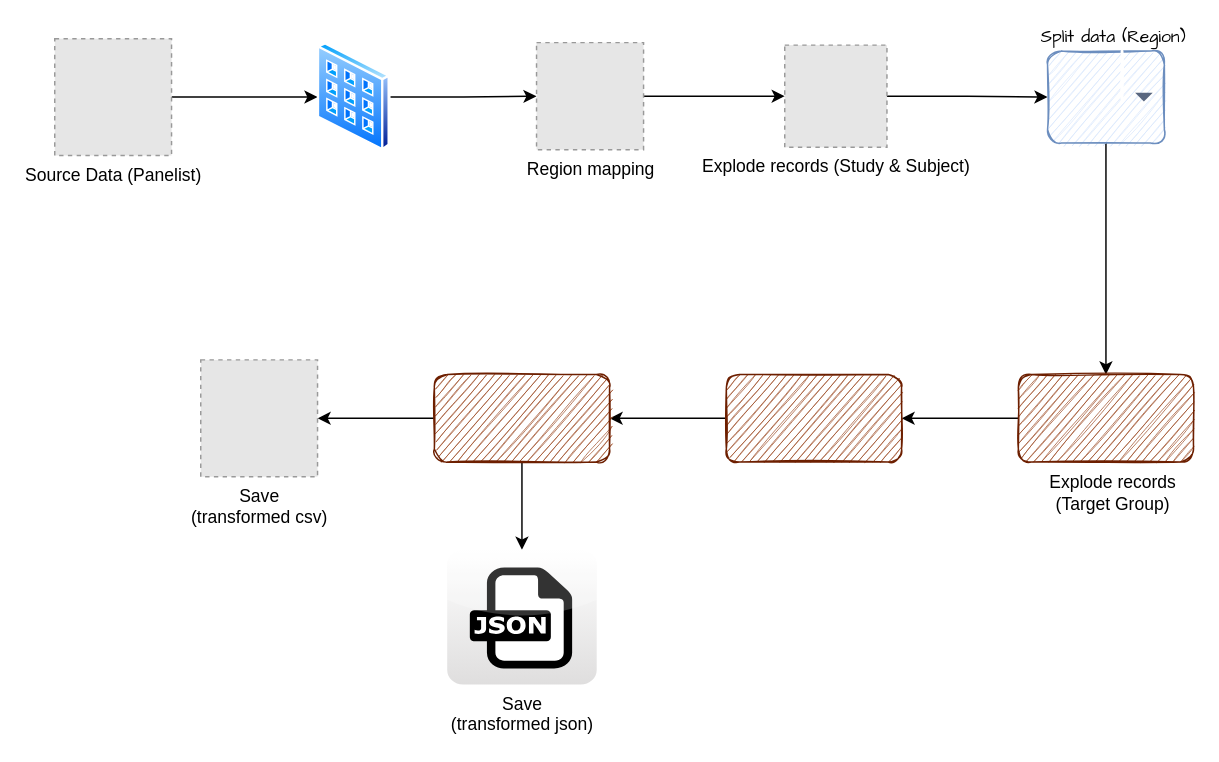
Some shapes in this 1219 by 762 pixel diagram are drawn without their labels. Grey dashed boxes stand in for pictures. Here are the shapes that lost their labels. From the top down, the box of each, then its label:
(317, 42, 390, 151): Unique Filter (Project-Supplier)
(433, 373, 610, 462): Flatten Qualification into new columns Ids-Value wise (Target Group)
(725, 373, 902, 462): Split Name, Quota, Qualification into new Columns (Target Group)
